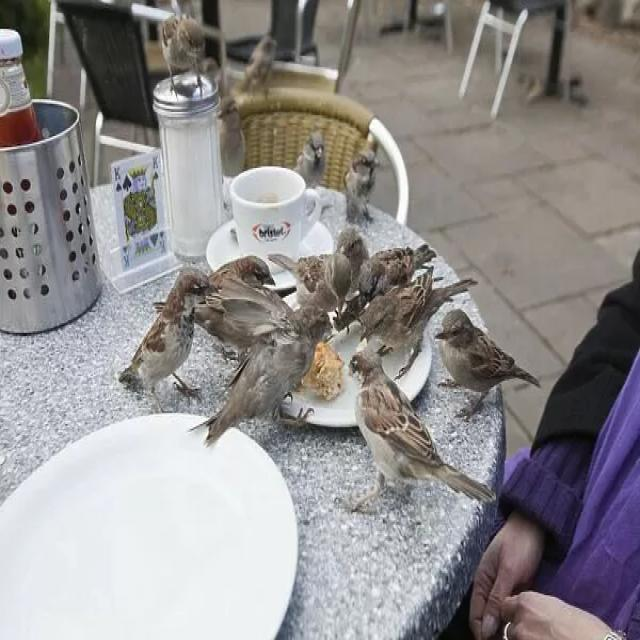bird: (350, 347, 501, 512), (205, 339, 318, 448), (118, 269, 202, 413), (436, 308, 542, 422)
